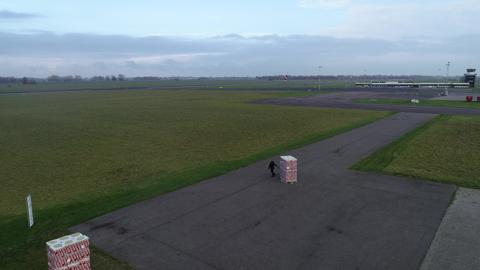RockwoolPallet: (279, 153, 299, 182)
